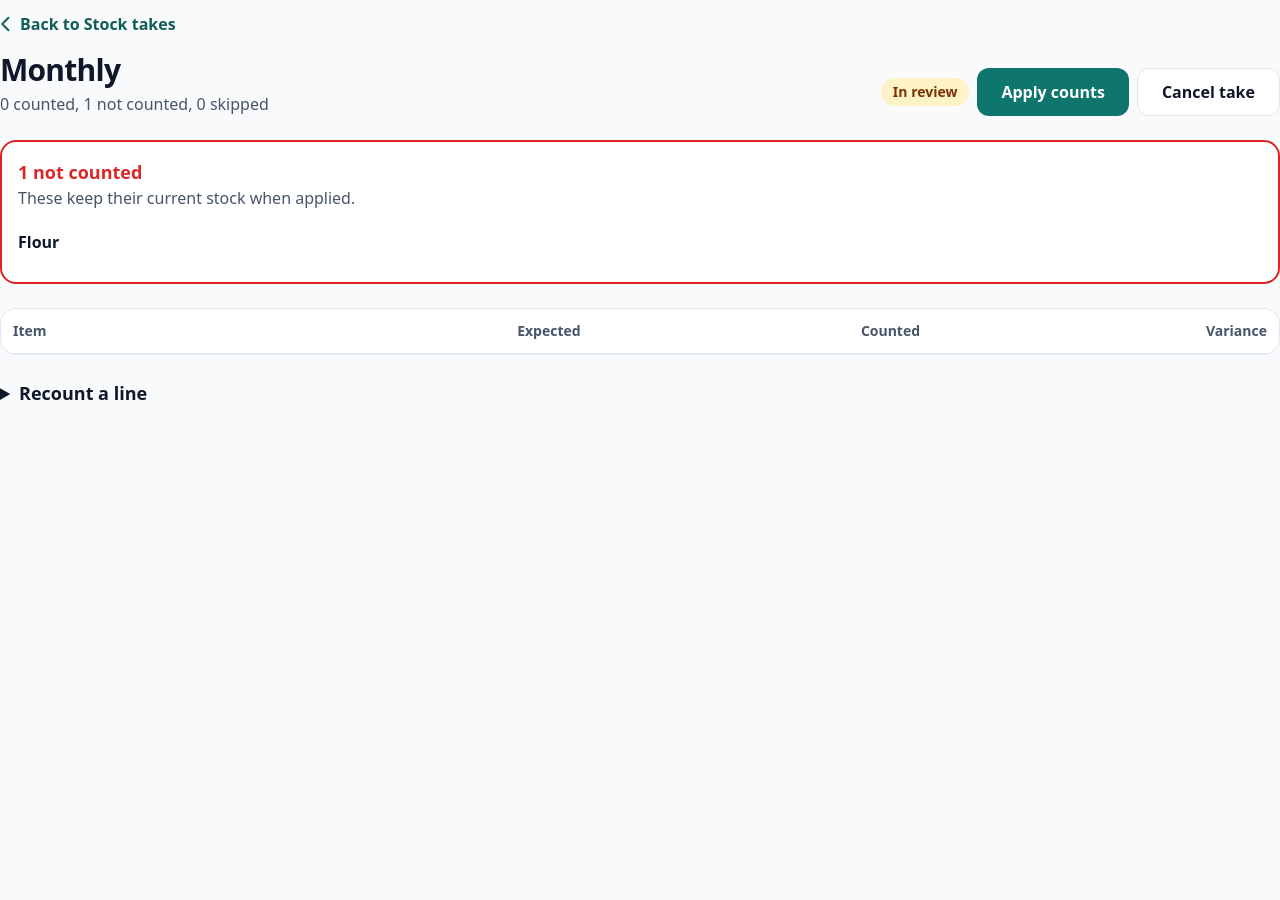
Scenario: StockTakeDetailPage › apply opens the PIN dialog and a wrong PIN keeps it open with the error
Click the button "Apply counts".
click(1053, 92)  # box [977,68,1129,116]
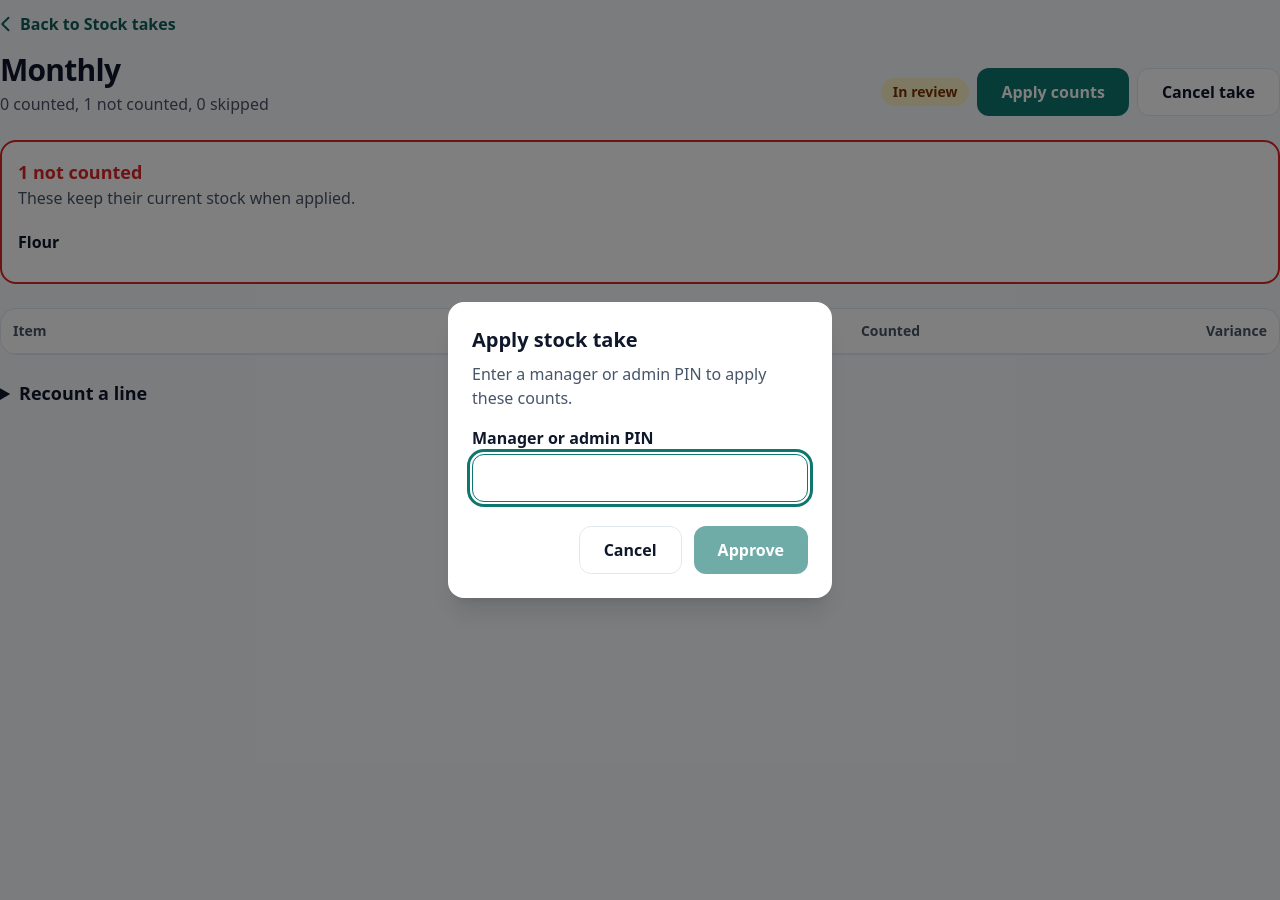
Type "1234" into the password field labelled "Manager or admin PIN".
click(640, 478); type("1234")  # box [472,454,808,502]
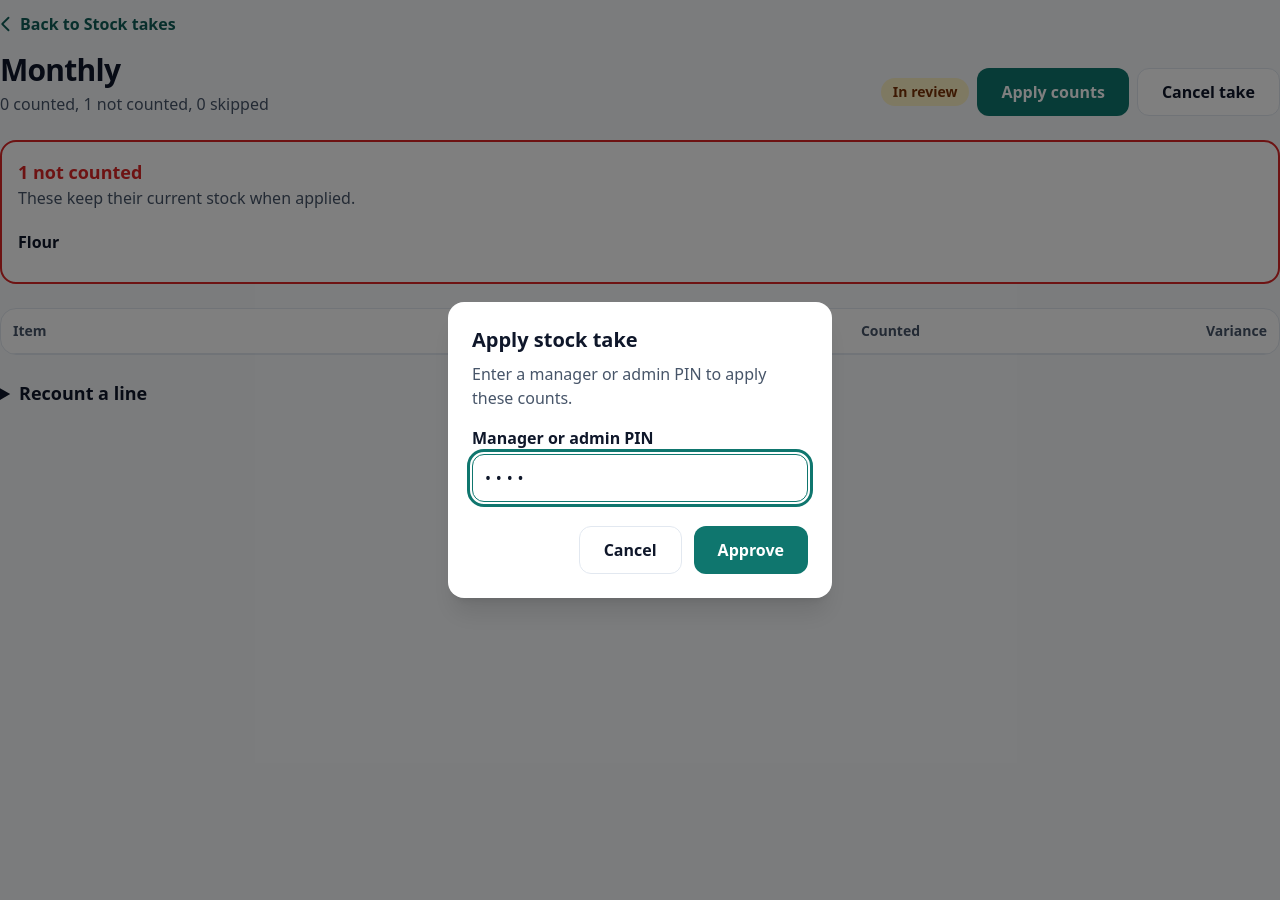
Click the button "Approve".
click(751, 550)  # box [694,526,808,574]
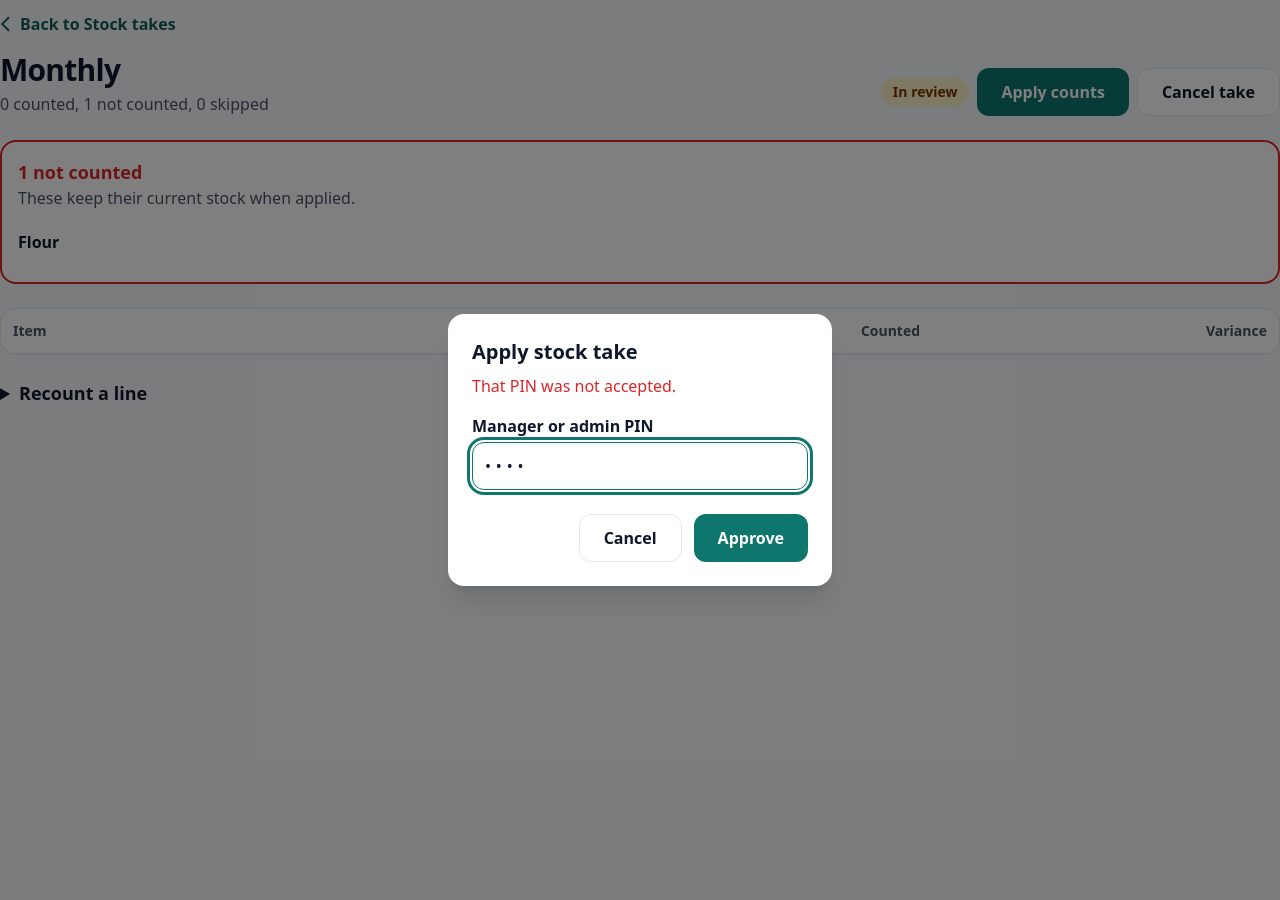
expect the text "That PIN was not accepted." is shown: met, box [472,375,676,397]
